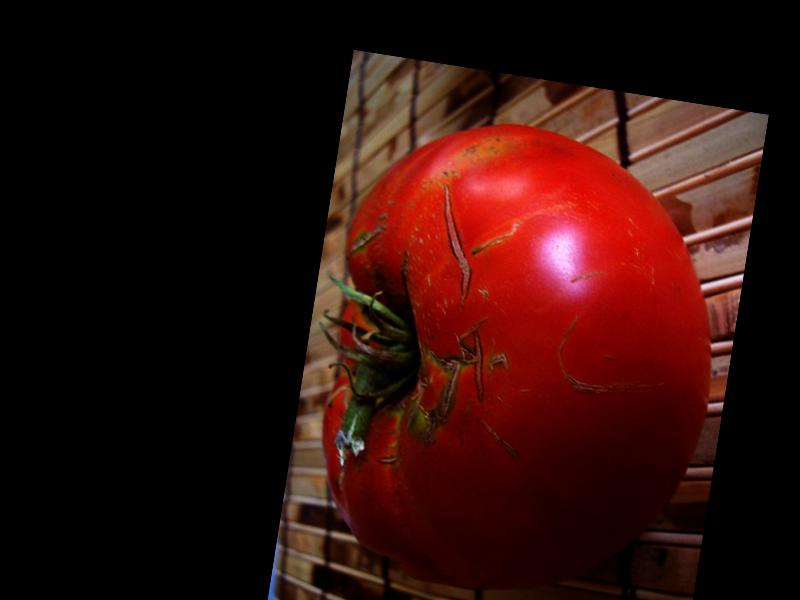Tomato: (296, 102, 739, 600)
